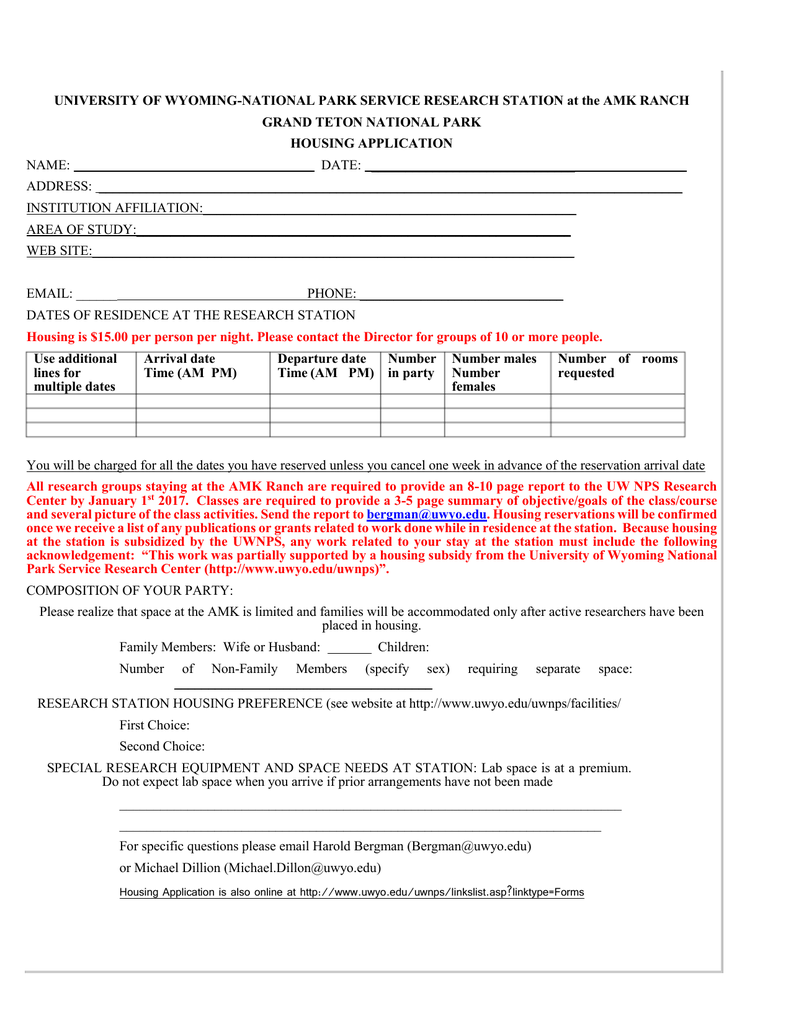textbox: (547, 390, 689, 411), (550, 419, 689, 440), (132, 391, 273, 411), (135, 419, 274, 439), (548, 405, 690, 424), (133, 405, 274, 424), (439, 419, 555, 442), (267, 404, 382, 426), (441, 404, 555, 426), (267, 419, 384, 440), (440, 390, 555, 411), (267, 390, 381, 411), (22, 407, 139, 427), (24, 391, 139, 411), (25, 420, 139, 439), (376, 420, 449, 441), (377, 390, 449, 409), (376, 405, 447, 424)
textline: (94, 176, 685, 196), (96, 238, 577, 260), (137, 219, 576, 240), (117, 796, 625, 813), (114, 819, 606, 835), (204, 198, 581, 218), (365, 152, 689, 175), (359, 279, 567, 305), (74, 153, 317, 174), (78, 281, 306, 302), (170, 676, 439, 693), (327, 639, 374, 657)
